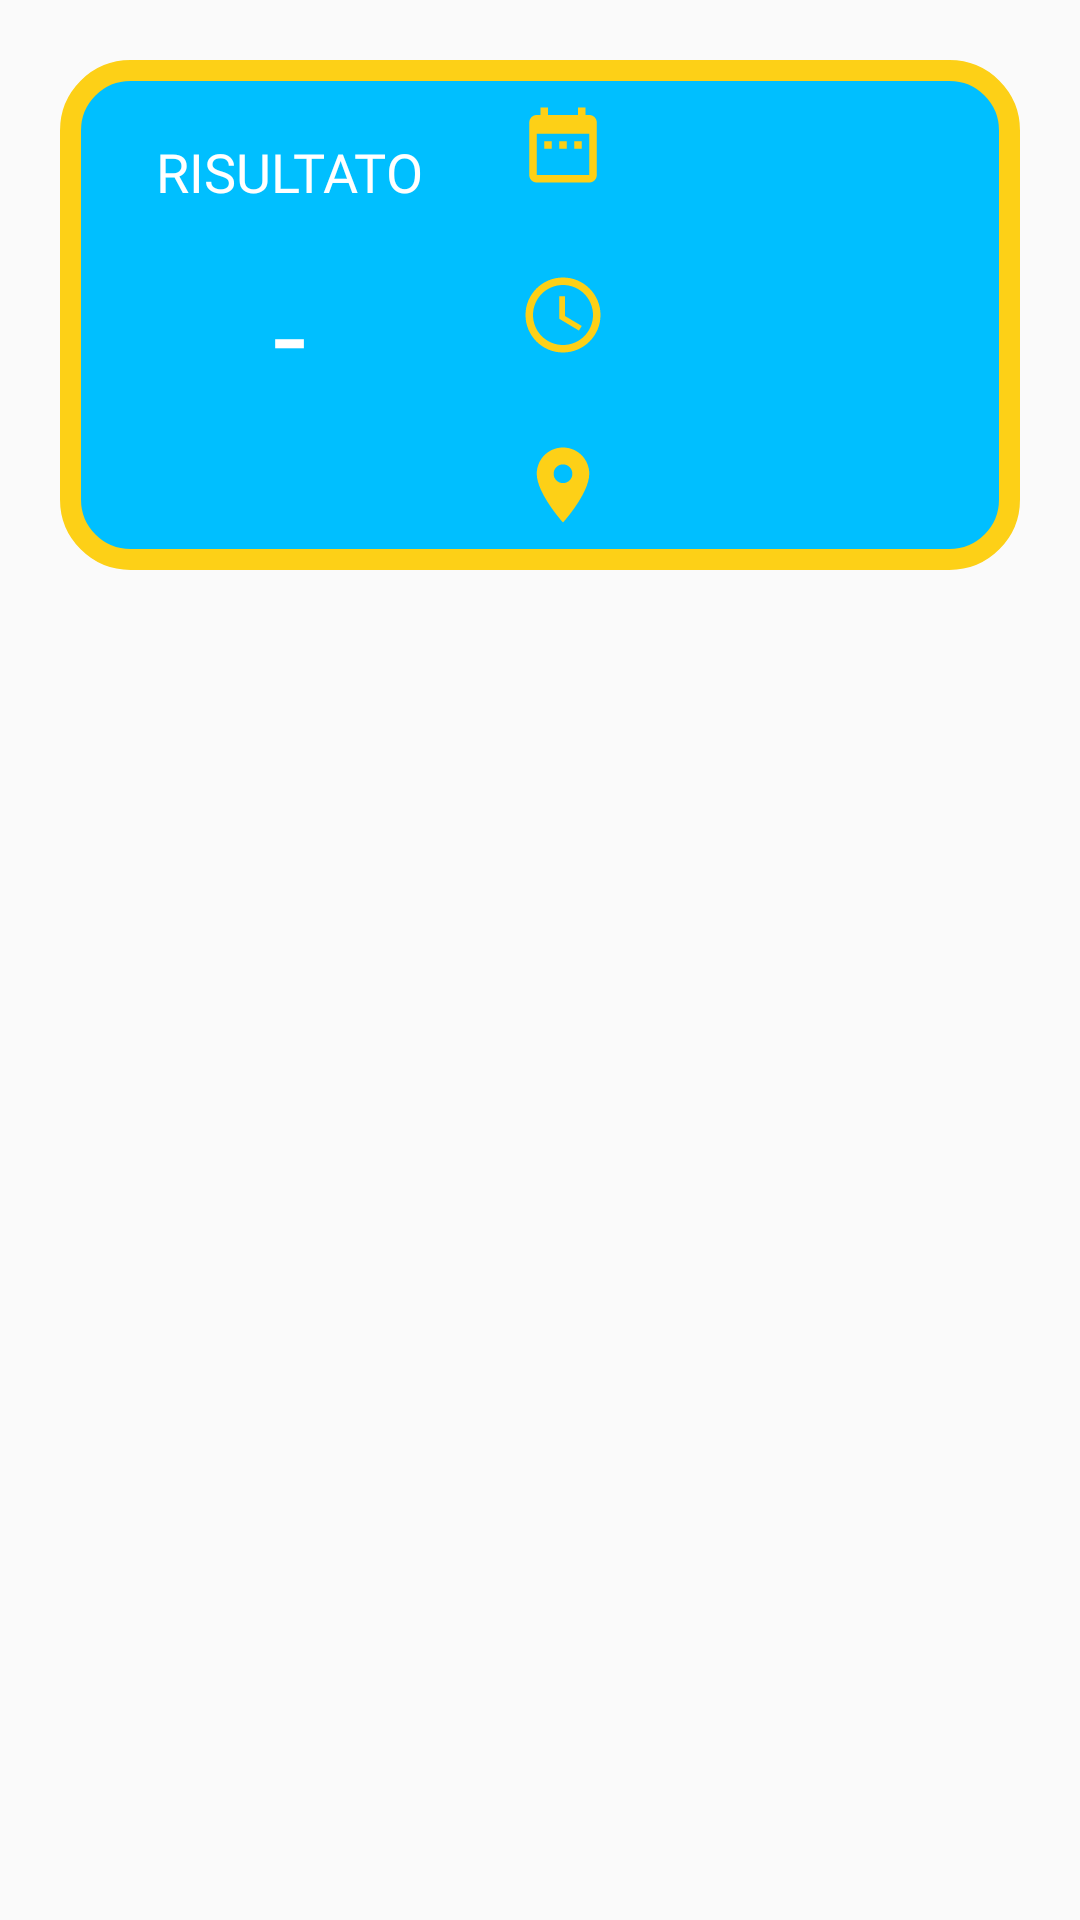

Locate icon controls on the screen. Image size 1080px×1920px, boxes as BBox(x1, y1, x2, y2).
access time: BBox(525, 277, 601, 353)
date range: BBox(529, 107, 597, 183)
place: BBox(536, 447, 590, 522)
